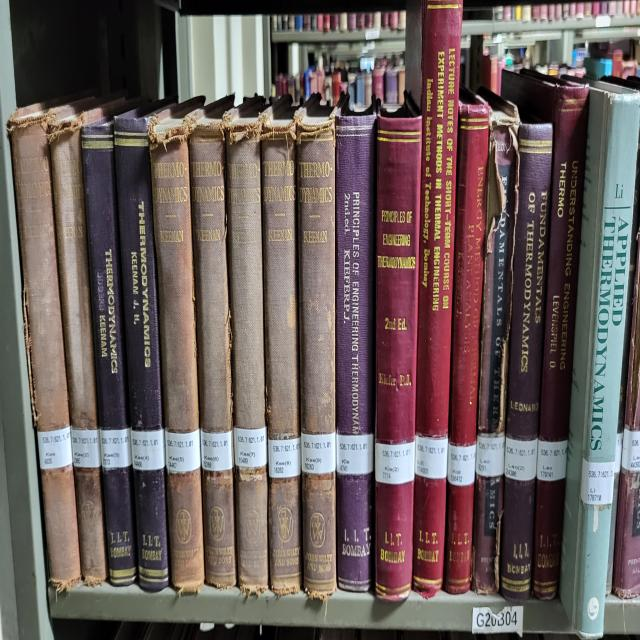Book: (501, 73, 589, 598), (560, 84, 640, 636), (8, 106, 80, 590), (412, 0, 462, 598), (49, 106, 108, 584), (149, 97, 205, 593), (114, 108, 169, 590), (81, 119, 138, 584), (472, 87, 520, 595), (189, 95, 236, 587), (375, 100, 421, 601), (444, 87, 489, 593), (224, 97, 269, 595), (261, 95, 302, 595), (296, 97, 336, 603), (335, 108, 376, 593), (506, 119, 552, 438)
Label: (375, 441, 415, 484), (165, 427, 201, 473), (336, 433, 374, 476), (38, 425, 72, 471), (505, 436, 538, 482), (581, 460, 614, 506), (131, 427, 165, 471), (415, 436, 448, 479), (536, 438, 568, 482), (301, 433, 336, 473), (234, 427, 268, 468), (200, 430, 232, 471), (269, 438, 301, 479), (475, 433, 505, 476), (100, 427, 131, 468), (71, 427, 101, 468), (448, 444, 476, 487)
